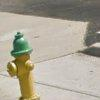Hydrant: (2, 27, 41, 100)
